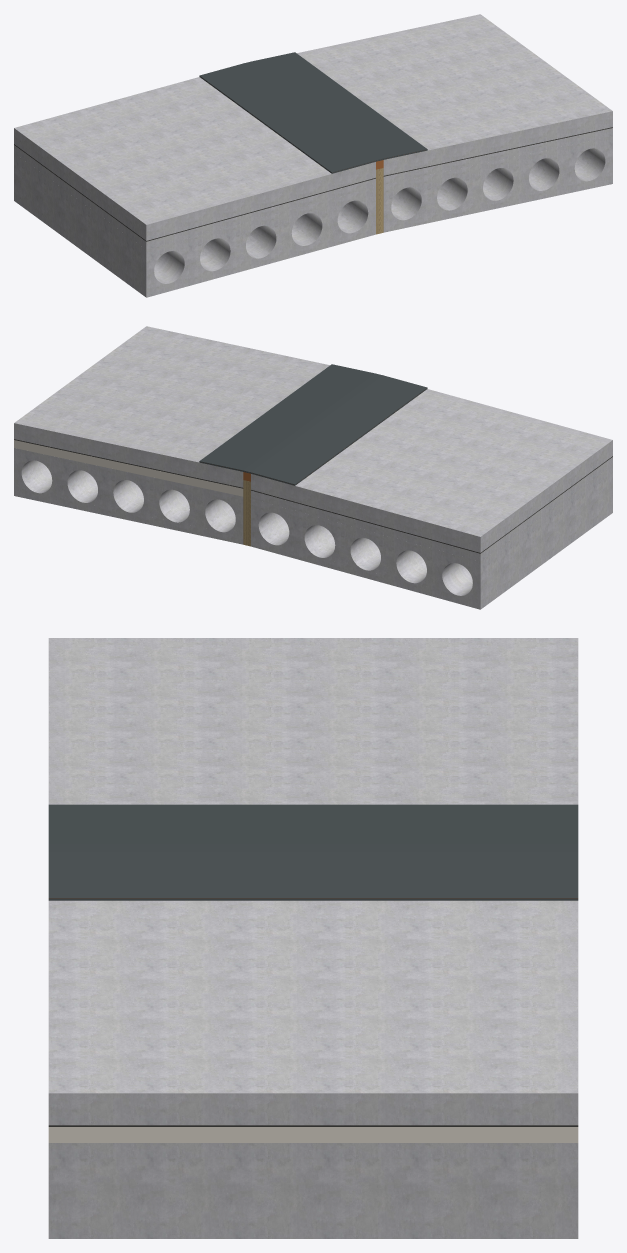
File: ridge-joint-01.glb
3 renders of one model, top to bottom at view 1: azimuth 30°, elevation 25°; view 2: azimuth 150°, elevation 25°; view 3: azimuth 270°, elevation 25°, orthographic. The views are drawn at different scales.
Parts seen in each view (by area): view 1: 细石混凝土刚性层, 空心屋面板, 二布三油, 水泥砂浆找平层, 纸筋灰隔离层, 沥青麻丝缝底填充; view 2: 细石混凝土刚性层, 空心屋面板, 二布三油, 水泥砂浆找平层, 纸筋灰隔离层, 沥青麻丝缝底填充; view 3: 细石混凝土刚性层, 二布三油, 空心屋面板, 水泥砂浆找平层, 纸筋灰隔离层.
Boxes of the visible parts, box(x1,y1,x2,y2) form: 细石混凝土刚性层: box(14, 14, 612, 240); 空心屋面板: box(14, 136, 612, 297); 二布三油: box(199, 52, 427, 173); 水泥砂浆找平层: box(14, 128, 612, 249); 纸筋灰隔离层: box(14, 127, 612, 241); 沥青麻丝缝底填充: box(376, 168, 383, 234); 细石混凝土刚性层: box(14, 326, 612, 552); 空心屋面板: box(14, 448, 612, 609); 二布三油: box(199, 364, 427, 485); 水泥砂浆找平层: box(14, 440, 612, 561); 纸筋灰隔离层: box(14, 439, 612, 553); 沥青麻丝缝底填充: box(243, 480, 250, 546); 细石混凝土刚性层: box(48, 638, 578, 1125); 二布三油: box(48, 804, 578, 900); 空心屋面板: box(48, 1143, 578, 1238); 水泥砂浆找平层: box(48, 1127, 578, 1142); 纸筋灰隔离层: box(48, 1125, 578, 1126).
Size of the model in its own units: 1.22 by 0.2035 by 0.6.
9 materials, 4 textured.
